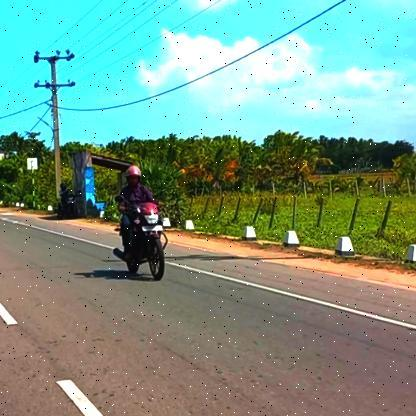motorcycle: (107, 202, 172, 286)
